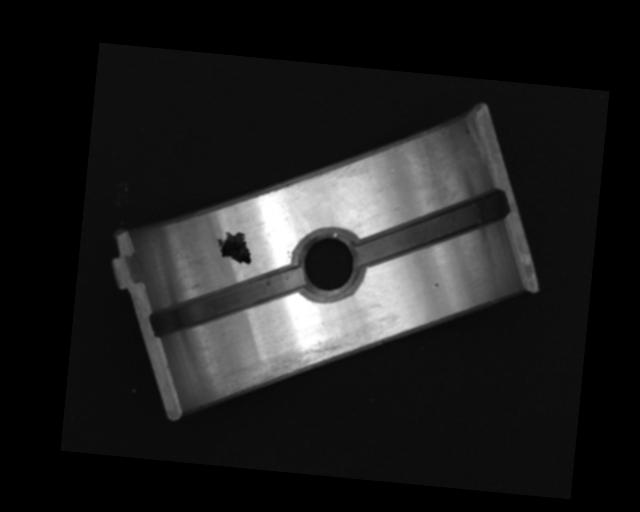blot: (213, 229, 255, 267)
bruise: (431, 281, 440, 289)
gap: (355, 178, 508, 279), (148, 255, 305, 348)
hole: (291, 224, 366, 303)
scratch: (221, 328, 362, 409)
